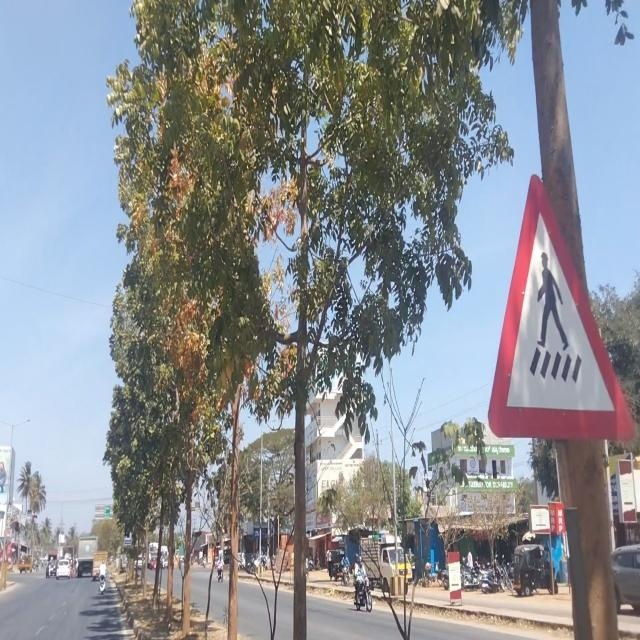bien_nguy_hiem: (487, 172, 630, 448)
